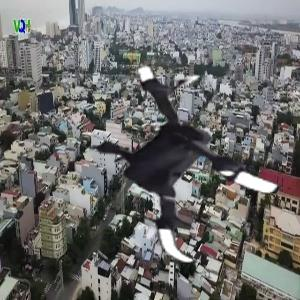drone: (61, 42, 289, 270)
